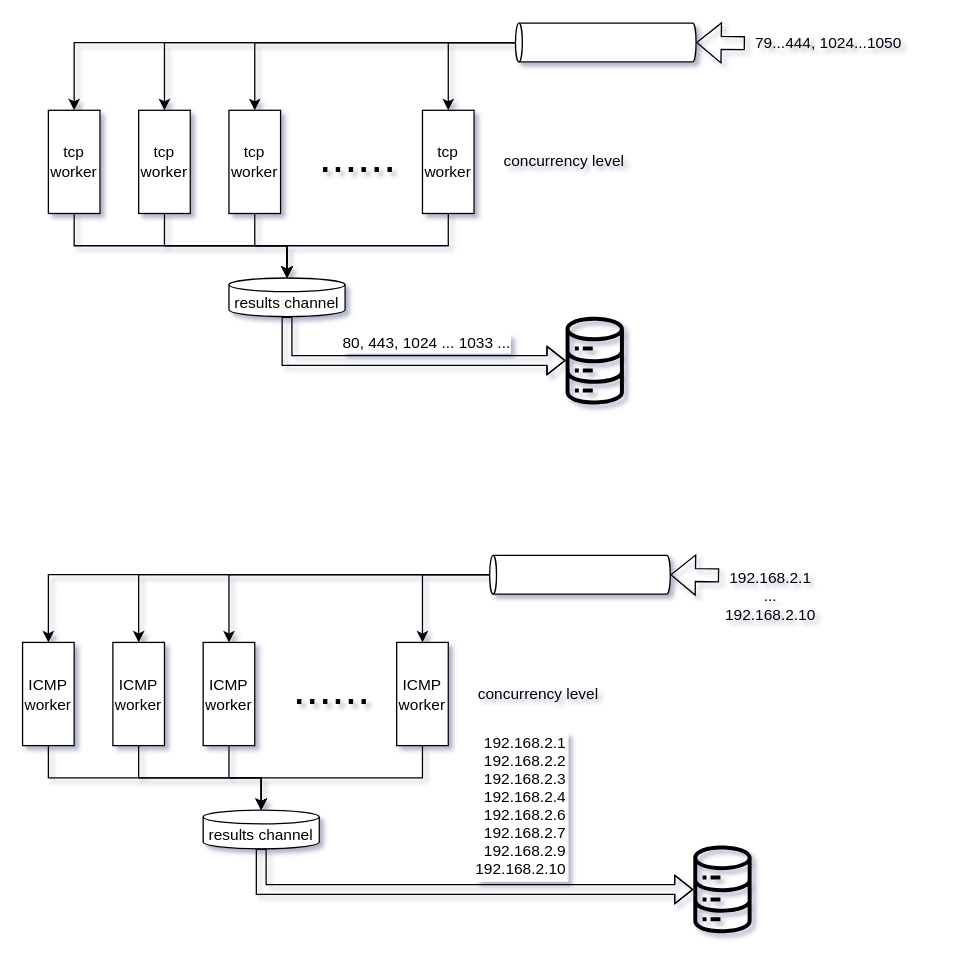
Image size: 969x964. Some labels were removed from this diagram. The shapes that lost their labels are listed below. From the top down, each one's box as (x1, y1, x2, y2) in pixels, then its label:
(514, 22, 696, 62): ports channel
(488, 554, 670, 594): IPs channel
